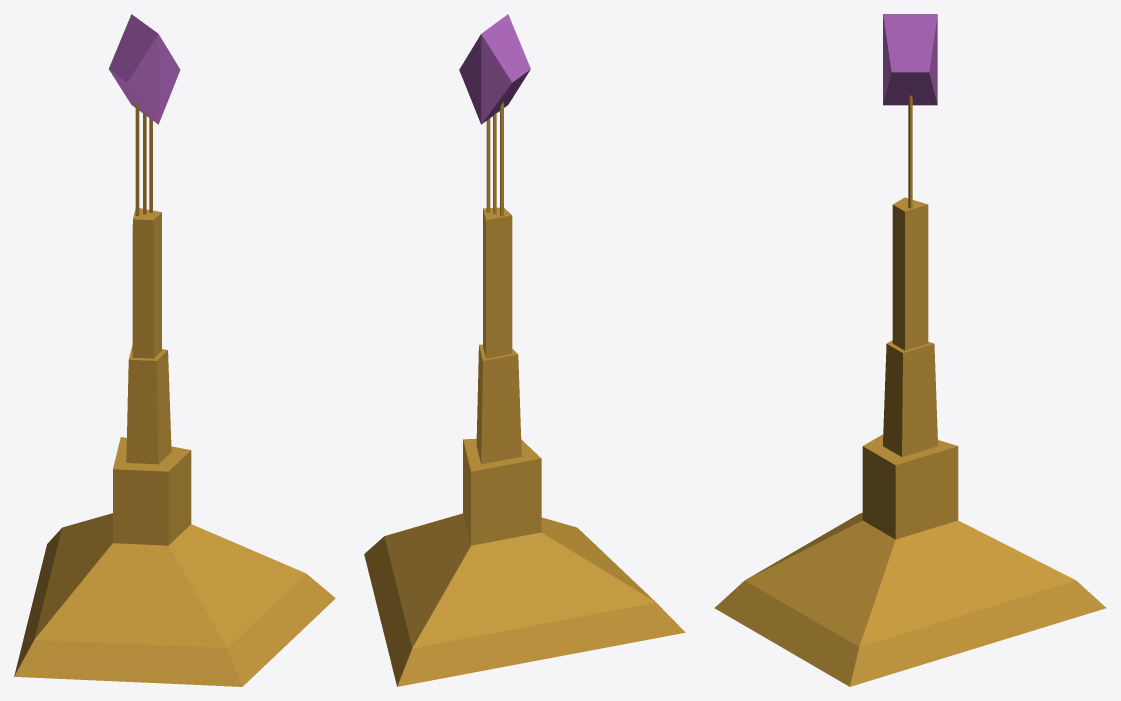
Rendered from Balanca.fbx.
3 renders of one model, left to right at view 1: azimuth 30°, elevation 25°; view 2: azimuth 150°, elevation 25°; view 3: azimuth 270°, elevation 25°, orthographic.
Parts seen in each view (by area): view 1: Balanca; view 2: Balanca; view 3: Balanca.
Boxes of the visible parts, bbox=[...] form: Balanca: bbox=[14, 14, 335, 686]; Balanca: bbox=[364, 14, 685, 686]; Balanca: bbox=[714, 14, 1106, 686].
Size of the model in its own units: 315 by 554 by 332.
